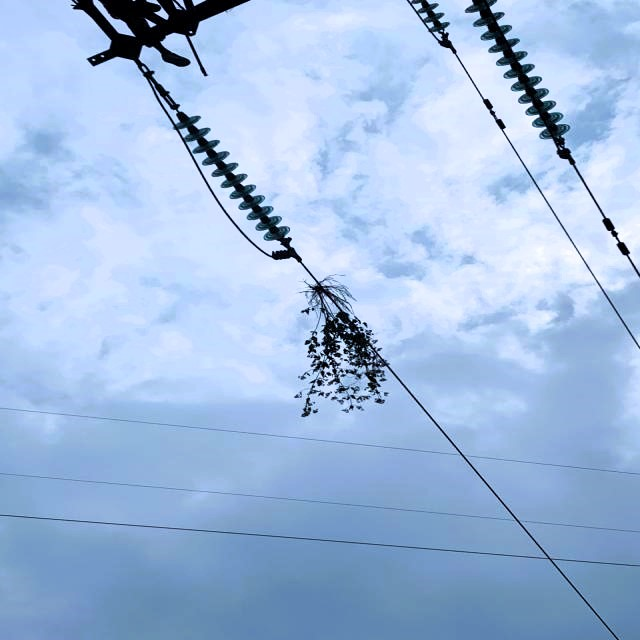wire foreign body: (288, 276, 408, 422)
